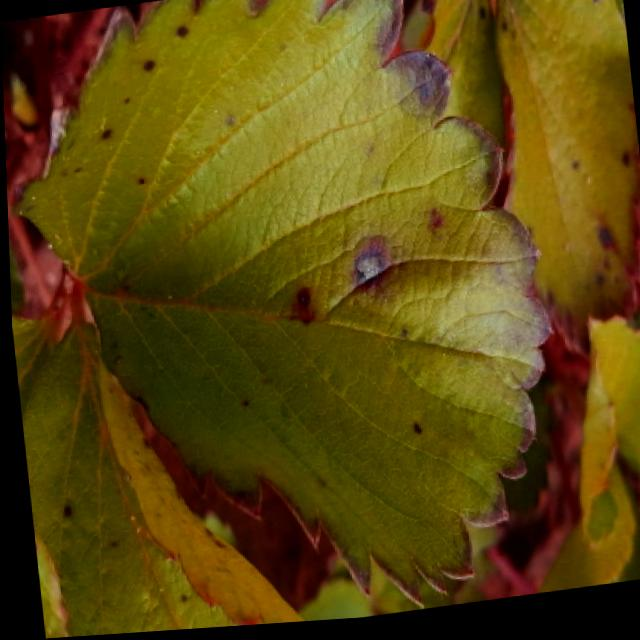Leaf Spot: (8, 0, 554, 615), (18, 315, 302, 638), (491, 0, 640, 371), (391, 0, 512, 155)
